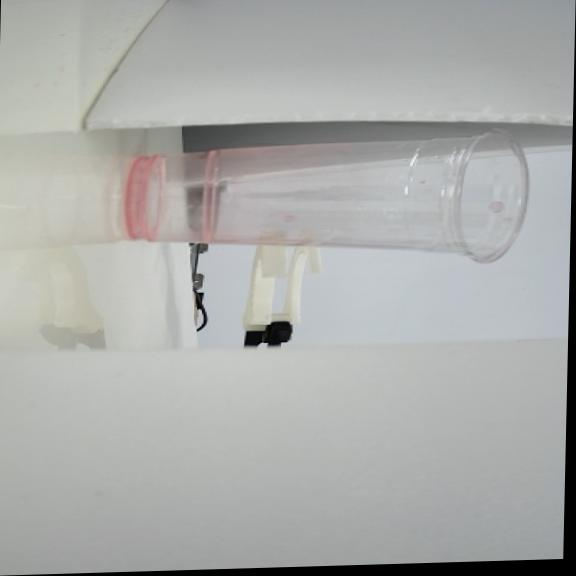Plastik: (126, 130, 528, 262)
